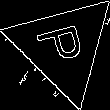P_E: (34, 22, 93, 71)
